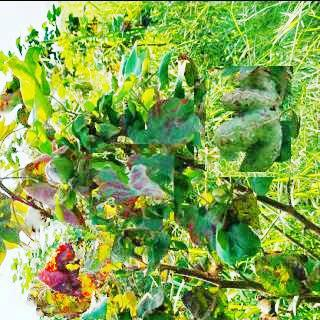blight: (31, 220, 111, 318), (92, 147, 170, 225)
leaf spot: (200, 71, 300, 171)
